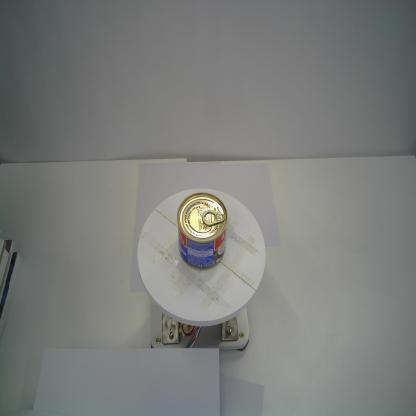Canned Food: (174, 190, 228, 271)
